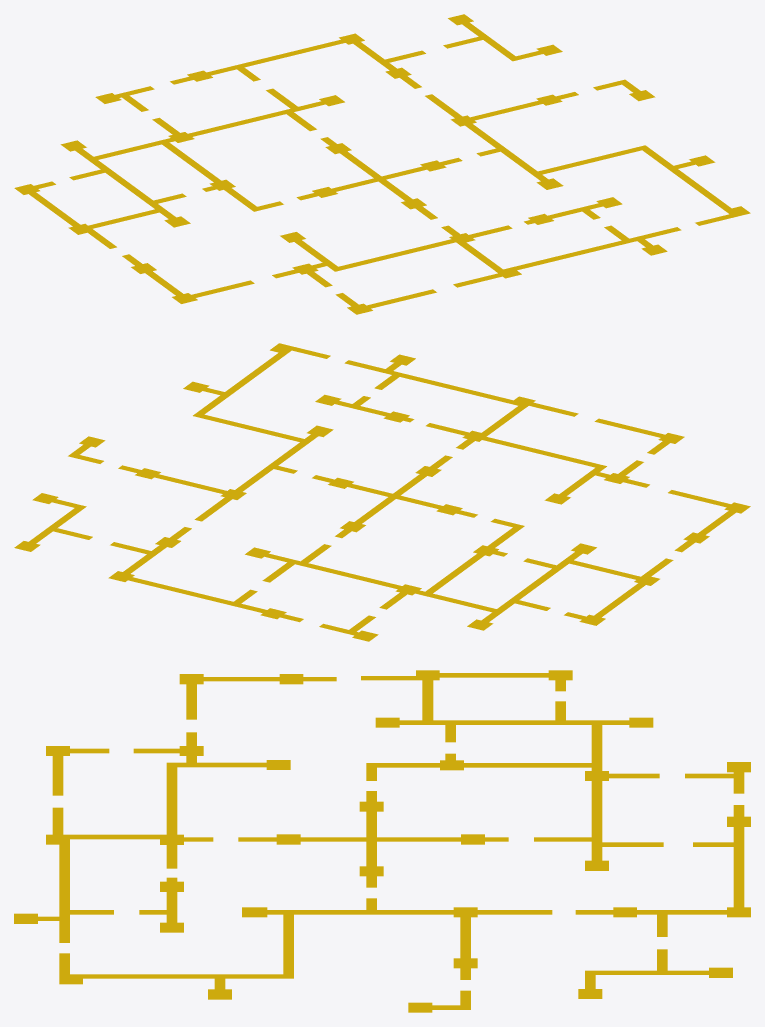
File: Target_Points.fbx
The picture shows the model from 3 angles, top to bottom: view 1: azimuth 30°, elevation 25°; view 2: azimuth 150°, elevation 25°; view 3: azimuth 270°, elevation 25°; orthographic projection. The views are drawn at different scales.
Parts seen in each view (by area): view 1: Target_Points; view 2: Target_Points; view 3: Target_Points.
Boxes of the visible parts, x1,y1,x2,y2 form: Target_Points: (14,14,750,314); Target_Points: (14,343,750,641); Target_Points: (14,670,750,1012).
Size of the model in its own units: 8929 by 0 by 8123.
